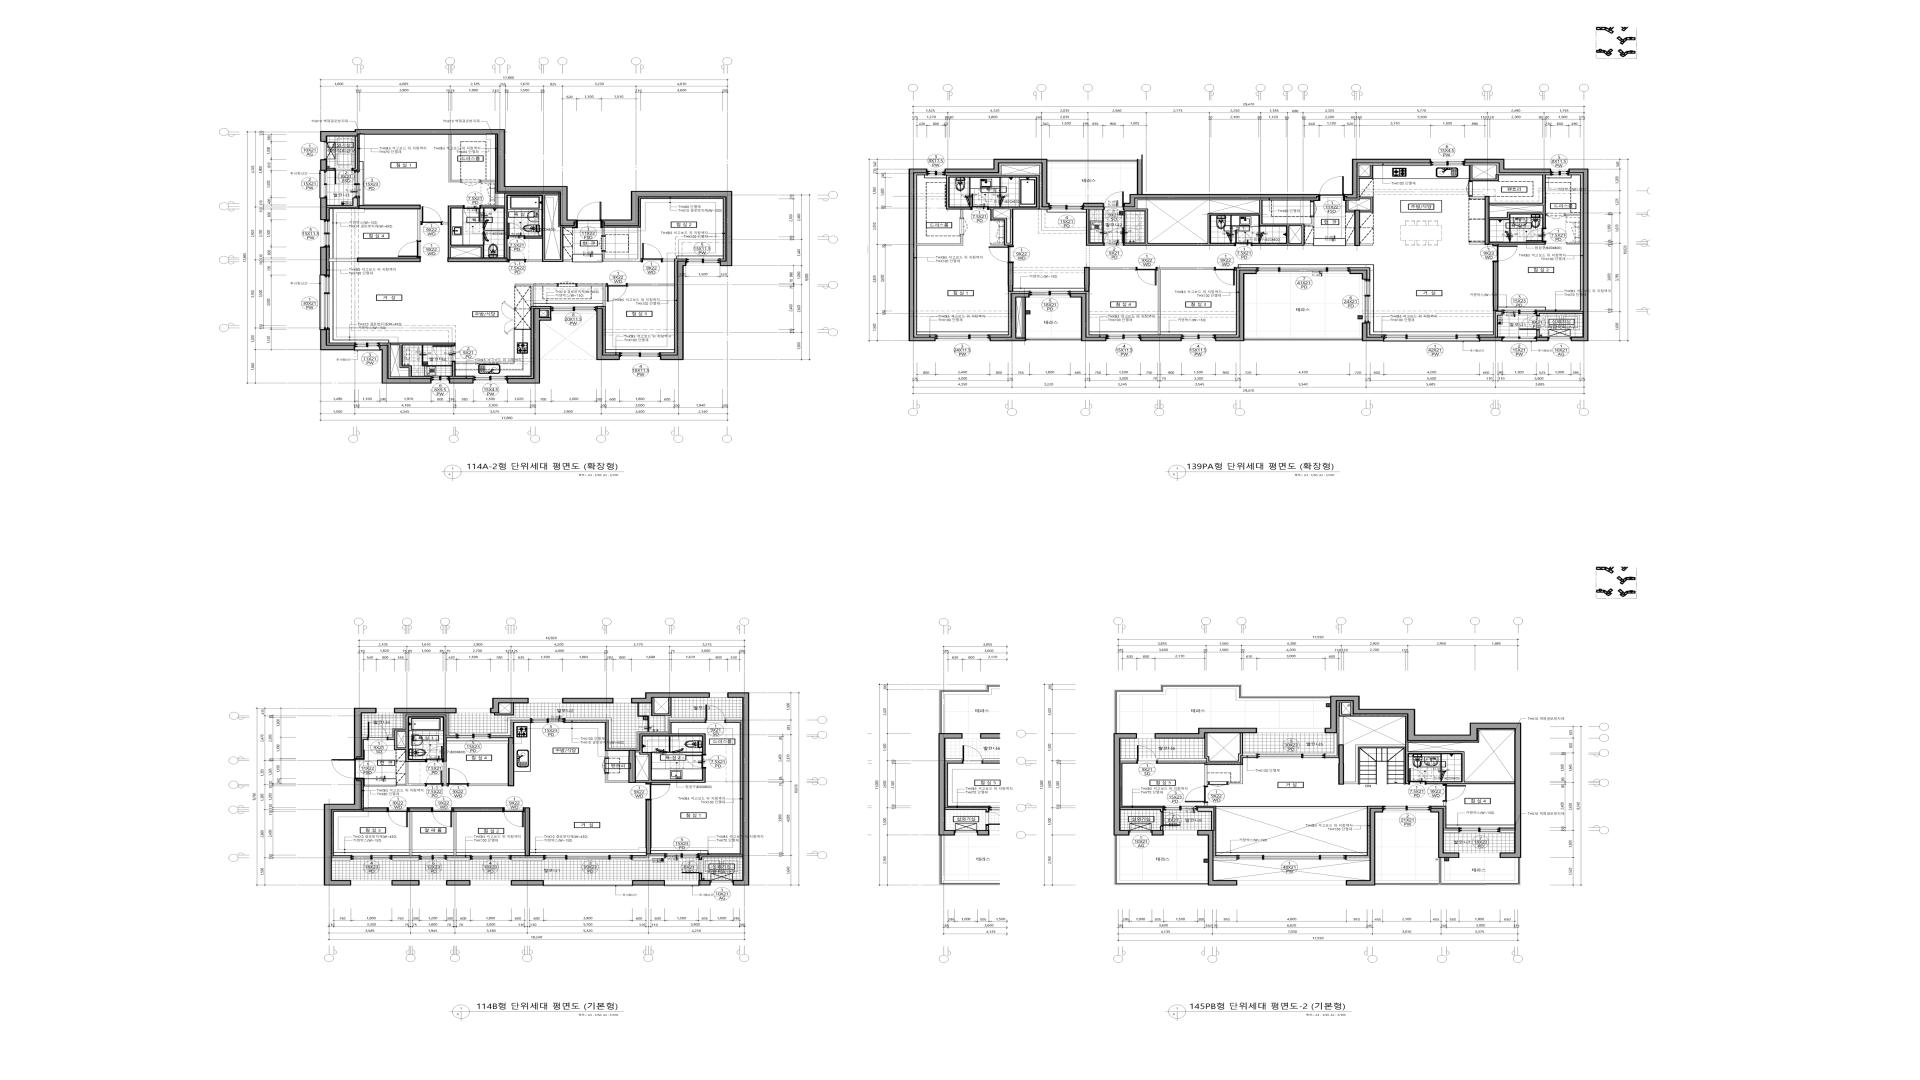door: (331, 758, 364, 779), (576, 202, 601, 228), (1319, 177, 1344, 200), (431, 807, 454, 828), (989, 245, 1014, 264), (502, 807, 525, 827), (386, 807, 409, 827), (645, 783, 670, 800), (1493, 245, 1518, 262), (1215, 266, 1236, 286), (1137, 266, 1158, 286), (447, 767, 468, 787), (367, 721, 388, 741), (641, 243, 662, 262), (605, 284, 628, 302), (1443, 785, 1466, 802), (1104, 227, 1124, 247), (1137, 745, 1158, 764), (421, 207, 442, 225), (1185, 786, 1208, 803), (1104, 191, 1124, 210), (705, 704, 725, 723), (433, 345, 455, 361), (398, 241, 421, 257), (682, 858, 703, 874), (1519, 315, 1540, 331), (1234, 229, 1253, 247), (686, 754, 707, 769), (335, 167, 352, 185), (971, 194, 989, 210), (1408, 769, 1427, 785), (508, 247, 526, 262), (463, 206, 481, 222), (1526, 228, 1547, 241), (426, 746, 443, 762), (426, 771, 443, 787), (508, 223, 525, 239), (1160, 812, 1180, 825), (460, 179, 481, 186), (960, 219, 968, 235), (601, 758, 609, 773), (1208, 782, 1228, 787), (1545, 214, 1565, 219), (558, 281, 576, 286), (1466, 182, 1473, 196)
wall: (1325, 696, 1522, 858), (320, 129, 576, 225), (1114, 684, 1331, 733), (601, 191, 732, 266), (1124, 160, 1319, 207), (1124, 200, 1313, 245), (1344, 742, 1514, 785), (945, 175, 1039, 245), (481, 194, 572, 262), (944, 158, 1050, 207), (1114, 836, 1208, 885), (909, 169, 935, 342), (728, 692, 749, 886), (323, 779, 361, 886), (1375, 858, 1520, 885), (1158, 268, 1215, 335), (394, 715, 447, 786), (1344, 158, 1431, 199), (636, 733, 705, 783), (1569, 169, 1589, 342), (506, 309, 551, 384), (1158, 733, 1257, 764), (1216, 269, 1257, 342), (1490, 175, 1545, 228), (1346, 808, 1383, 886), (659, 261, 686, 360), (1113, 733, 1137, 836), (390, 343, 455, 377), (1197, 831, 1237, 886), (442, 206, 484, 257), (989, 293, 1030, 342), (380, 345, 431, 384), (651, 698, 705, 732), (1069, 293, 1106, 342), (564, 717, 612, 749), (1431, 808, 1460, 858), (603, 228, 641, 262), (1465, 158, 1551, 173), (596, 309, 620, 360), (353, 708, 376, 758), (1155, 728, 1257, 738), (514, 284, 558, 306), (630, 692, 709, 703), (491, 717, 530, 736), (320, 330, 355, 351), (576, 284, 605, 306), (489, 698, 529, 713), (1087, 210, 1104, 245), (448, 135, 460, 182), (1338, 703, 1352, 745), (1469, 165, 1499, 182), (916, 235, 963, 245), (1362, 323, 1385, 342), (1197, 807, 1215, 831), (1047, 160, 1137, 164), (357, 257, 421, 262), (359, 204, 421, 210), (394, 708, 456, 713), (508, 737, 514, 786), (1493, 262, 1499, 311), (447, 257, 508, 262), (1228, 765, 1244, 785), (1245, 338, 1362, 340), (646, 800, 651, 855), (327, 198, 357, 207), (562, 698, 613, 703), (1325, 733, 1337, 756), (495, 703, 514, 716), (525, 807, 530, 856), (454, 807, 502, 812), (1485, 196, 1490, 245), (1360, 196, 1374, 212), (1121, 807, 1163, 812), (1490, 241, 1545, 245), (629, 750, 636, 783), (632, 880, 665, 886), (1141, 336, 1182, 342), (1338, 745, 1344, 785), (605, 774, 628, 783), (1354, 210, 1360, 247), (1349, 269, 1367, 280), (320, 247, 327, 276), (1360, 165, 1373, 179), (392, 880, 419, 886), (1536, 311, 1582, 315), (1007, 264, 1014, 291), (352, 137, 357, 170), (510, 881, 543, 886), (699, 855, 742, 858), (409, 812, 413, 856), (633, 856, 665, 861), (1495, 311, 1502, 336), (320, 198, 327, 220), (1026, 338, 1081, 340), (448, 378, 473, 384), (446, 881, 471, 886), (1084, 266, 1089, 291), (363, 807, 386, 812), (1089, 268, 1137, 270), (1480, 336, 1503, 342), (628, 284, 674, 286), (409, 807, 431, 812), (328, 258, 357, 262), (454, 812, 456, 856), (1345, 200, 1354, 212), (468, 783, 508, 786), (1023, 298, 1026, 338), (418, 210, 421, 241), (1204, 765, 1208, 786), (512, 858, 543, 861), (541, 309, 551, 316), (1083, 203, 1104, 207), (320, 160, 327, 171), (699, 880, 711, 886), (451, 363, 456, 377), (392, 858, 419, 861), (1151, 831, 1164, 836), (1536, 336, 1549, 342), (1346, 858, 1370, 861), (1213, 858, 1237, 861), (447, 858, 469, 861), (332, 858, 351, 861), (662, 258, 674, 262), (725, 717, 742, 720), (1121, 758, 1137, 761), (1444, 831, 1458, 833), (1501, 831, 1514, 833), (496, 194, 498, 206), (1469, 243, 1485, 244), (1469, 196, 1485, 198), (514, 785, 530, 786), (699, 874, 703, 880), (603, 228, 605, 236), (1536, 331, 1540, 336), (1565, 214, 1580, 215), (481, 181, 496, 182), (1567, 243, 1580, 244), (327, 167, 334, 170), (605, 752, 608, 758), (450, 733, 456, 736), (1361, 244, 1373, 245), (388, 735, 393, 737), (361, 735, 367, 737), (1160, 825, 1163, 831), (1444, 802, 1447, 806), (1346, 244, 1354, 245), (1205, 803, 1208, 806)
window: (1385, 335, 1480, 342), (1257, 268, 1349, 274), (1237, 855, 1346, 860), (319, 276, 330, 330), (543, 855, 633, 860), (545, 881, 632, 886), (1237, 881, 1346, 885), (1257, 728, 1325, 733), (1257, 753, 1325, 758), (551, 306, 596, 314), (1362, 280, 1370, 323), (620, 352, 659, 360), (1383, 806, 1431, 812), (935, 335, 989, 340), (686, 258, 720, 266), (473, 376, 506, 384), (1030, 290, 1069, 297), (320, 220, 330, 247), (1431, 160, 1465, 166), (469, 855, 512, 860), (1458, 827, 1501, 832), (352, 170, 360, 198), (1050, 203, 1083, 210), (351, 855, 392, 860), (319, 171, 327, 198), (355, 343, 380, 351), (456, 733, 491, 738), (665, 853, 699, 858), (665, 881, 699, 886), (1163, 806, 1197, 811), (1502, 310, 1536, 315), (1182, 335, 1216, 340), (1106, 335, 1141, 340), (456, 708, 489, 713), (1503, 336, 1536, 342), (351, 881, 392, 885), (471, 881, 510, 885), (1460, 853, 1499, 857), (419, 855, 447, 860), (431, 376, 448, 384), (530, 719, 564, 723), (529, 699, 562, 703), (1164, 831, 1197, 835), (1551, 169, 1569, 175), (711, 880, 733, 885), (320, 142, 327, 160), (927, 169, 944, 175), (1549, 336, 1571, 342), (419, 881, 446, 885), (1137, 733, 1155, 738), (377, 708, 394, 713), (709, 692, 727, 698), (1130, 831, 1151, 835), (613, 699, 630, 703)
